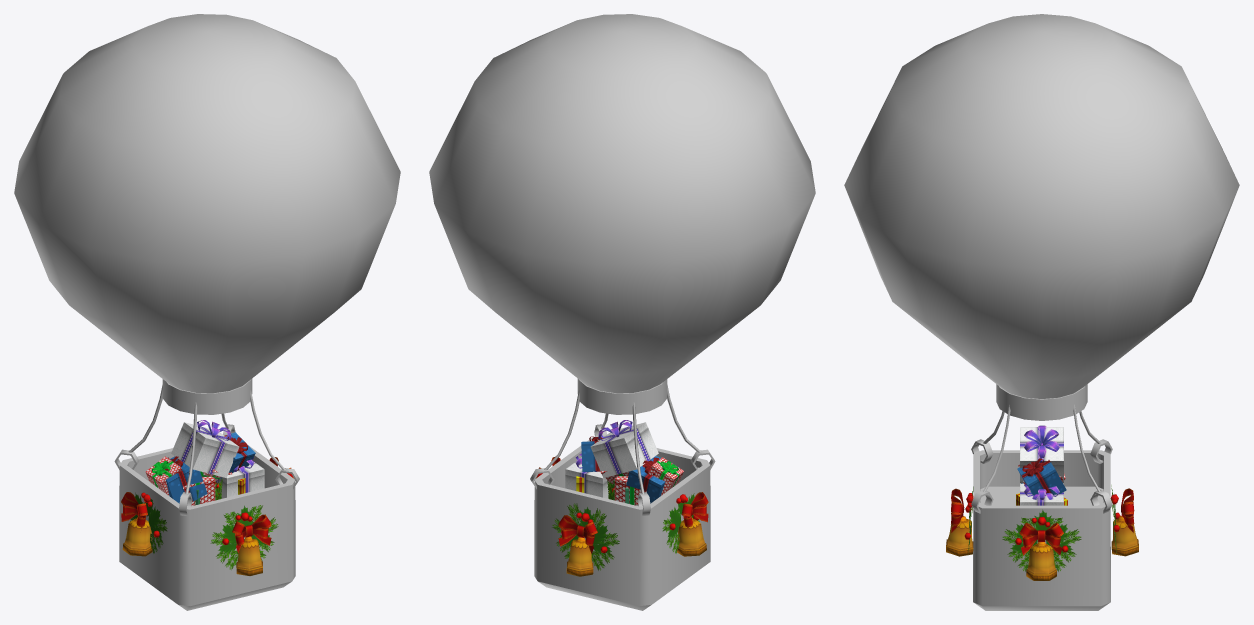
Rendered from Balloon2.FBX.
The picture shows the model from 3 angles, left to right: view 1: azimuth 30°, elevation 25°; view 2: azimuth 150°, elevation 25°; view 3: azimuth 270°, elevation 25°; orthographic projection.
Visible parts, largest first — view 1: Object535, Object577, Box131, Object538, Box128, Box132, Box127, Box135; view 2: Object535, Object578, Box131, Object538, Box128, Box132, Box127, Box129; view 3: Object535, Object536, Box131, Object577, Object578, Box135, Box128.
Boxes of the visible parts, <box> form: Object535: <box>14,14,400,610</box>; Object577: <box>210,505,278,575</box>; Box131: <box>171,420,239,477</box>; Object538: <box>121,492,167,556</box>; Box128: <box>216,457,264,498</box>; Box132: <box>164,456,207,503</box>; Box127: <box>145,456,181,496</box>; Box135: <box>220,432,255,478</box>; Object535: <box>429,14,815,610</box>; Object578: <box>552,503,619,576</box>; Box131: <box>590,420,658,477</box>; Object538: <box>662,492,708,556</box>; Box128: <box>565,453,608,498</box>; Box132: <box>626,456,679,503</box>; Box127: <box>648,457,684,495</box>; Box129: <box>614,476,646,505</box>; Object535: <box>844,14,1239,610</box>; Object536: <box>1002,509,1081,580</box>; Box131: <box>1020,425,1063,482</box>; Object577: <box>946,486,973,556</box>; Object578: <box>1110,485,1138,556</box>; Box135: <box>1017,458,1066,496</box>; Box128: <box>1020,483,1063,505</box>.
Bounding box in the file's own units: 185 × 286 × 185.
